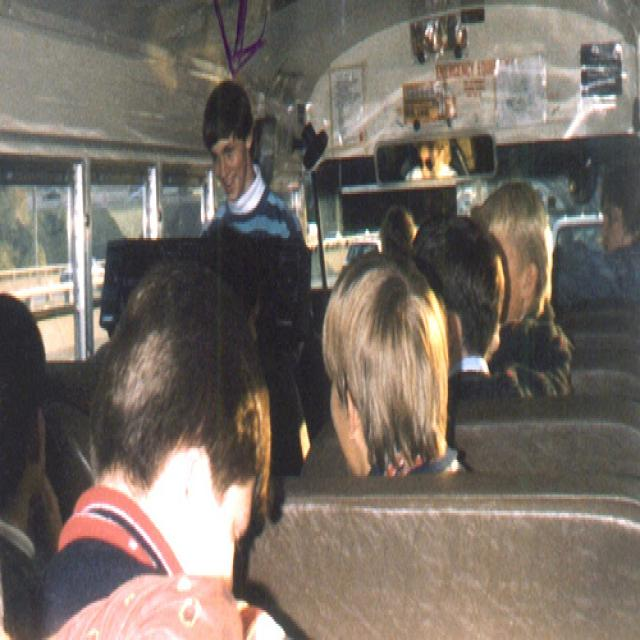Vehicle: (342, 241, 381, 274), (324, 230, 343, 248), (60, 268, 74, 284)
